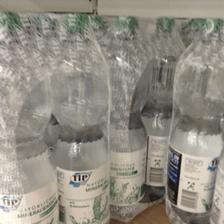Wasser: (48, 11, 112, 223), (0, 11, 60, 223), (167, 18, 223, 222), (102, 16, 150, 220)
